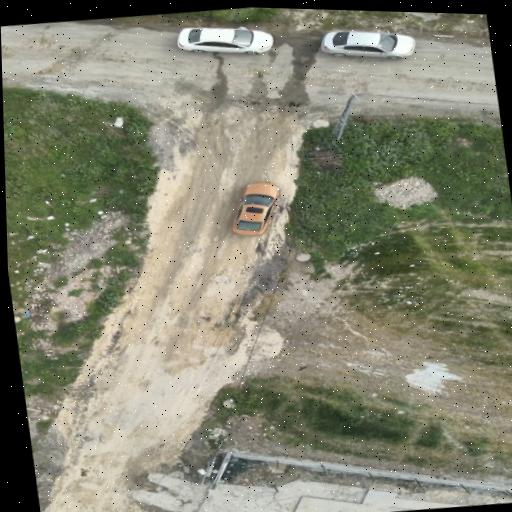car: (320, 30, 414, 59), (177, 27, 272, 54), (232, 181, 279, 235)
